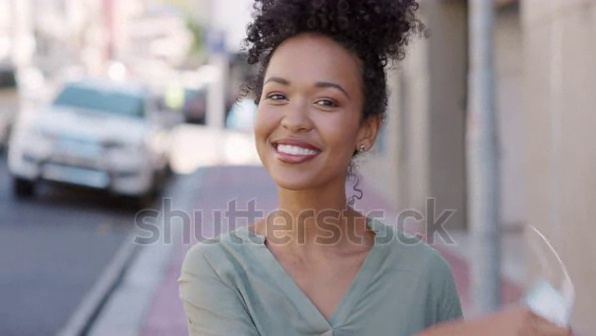No Mask: (243, 119, 358, 194)
